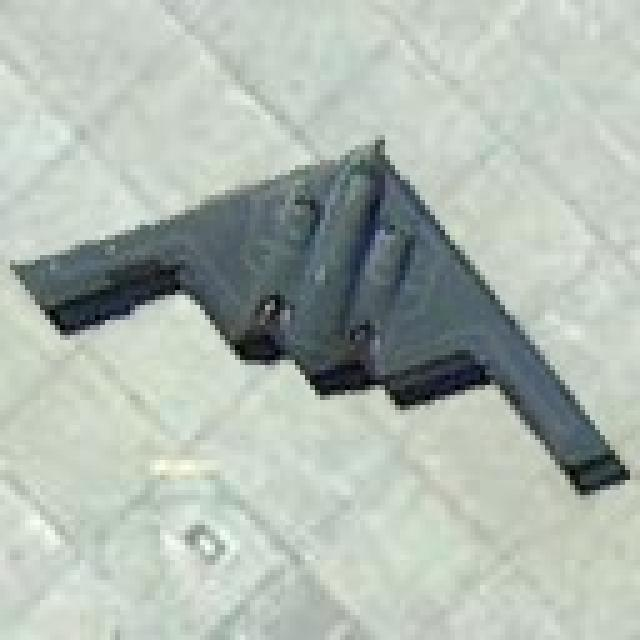B-2_TopDown: (5, 130, 630, 500)
